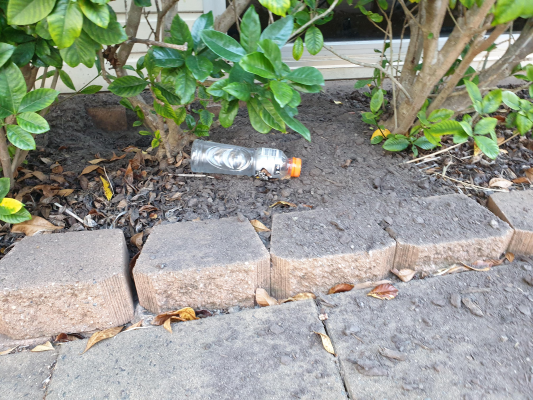Plastic Bottle: (191, 139, 301, 180)
